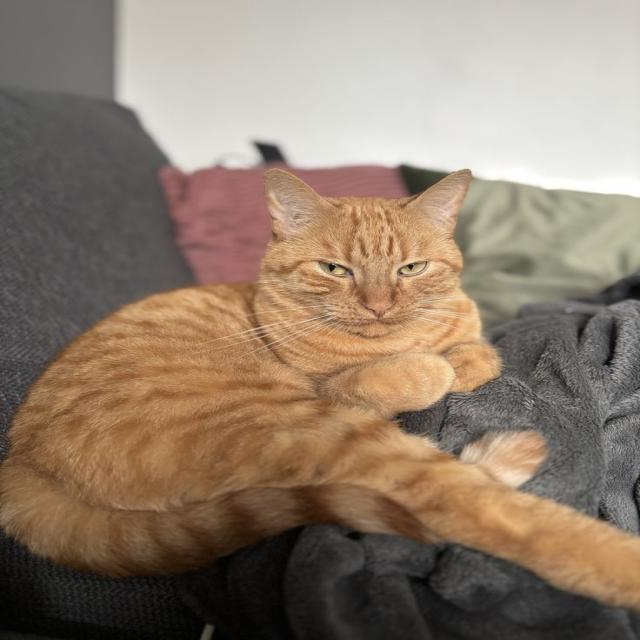sarman: (0, 169, 639, 611)
